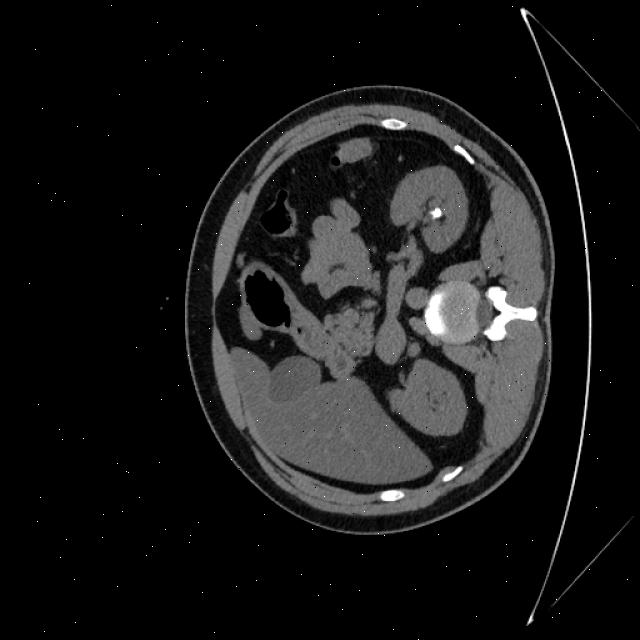kidneystone: (429, 206, 443, 219)
